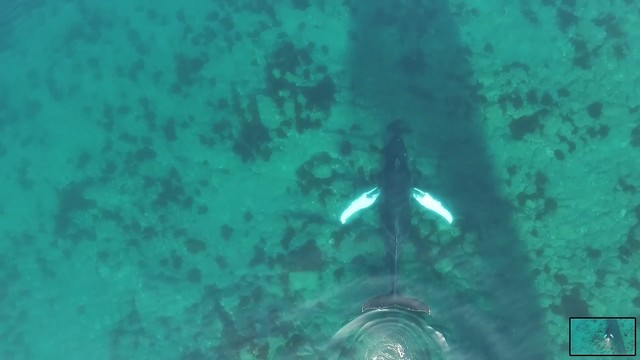whale: (335, 125, 459, 324)
